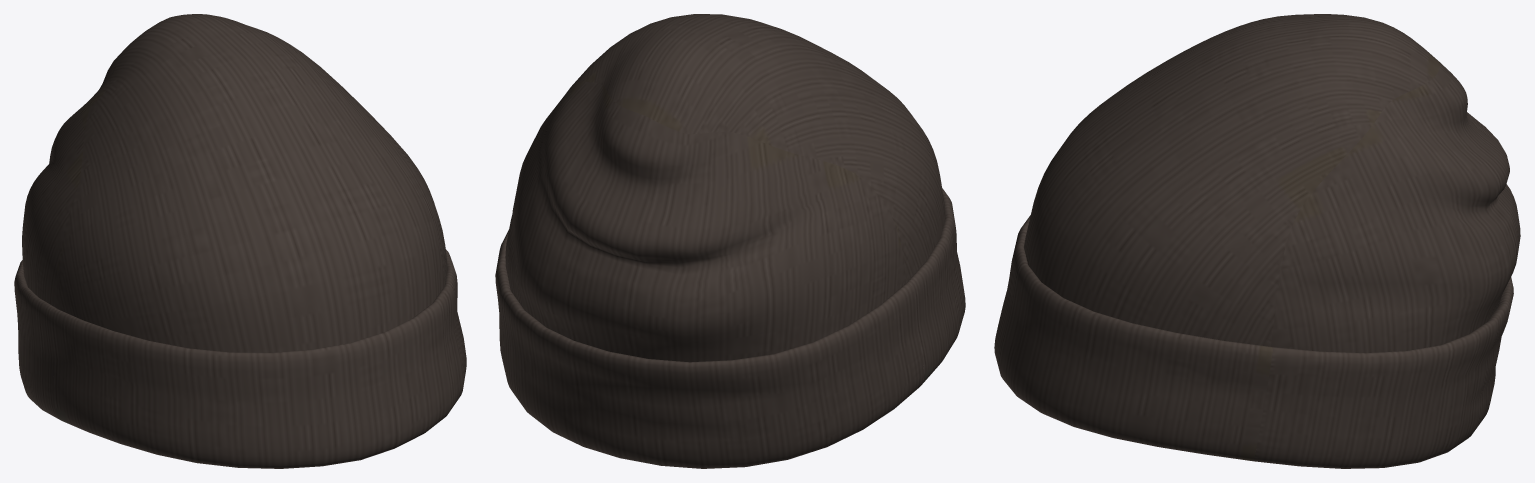
File: hat_beanie.glb
3 views of the same model, side by side, from view 1: azimuth 30°, elevation 25°; view 2: azimuth 150°, elevation 25°; view 3: azimuth 270°, elevation 25° (orthographic). The views are drawn at different scales.
Visible parts, largest first — view 1: hat_beanie; view 2: hat_beanie; view 3: hat_beanie.
Part boxes in pixels (x1,y1,x2,y2): hat_beanie: [14, 14, 466, 468]; hat_beanie: [495, 14, 965, 468]; hat_beanie: [994, 14, 1520, 468].
Size of the model in its own units: 0.1918 by 0.1757 by 0.22.
1 material, 1 textured.
